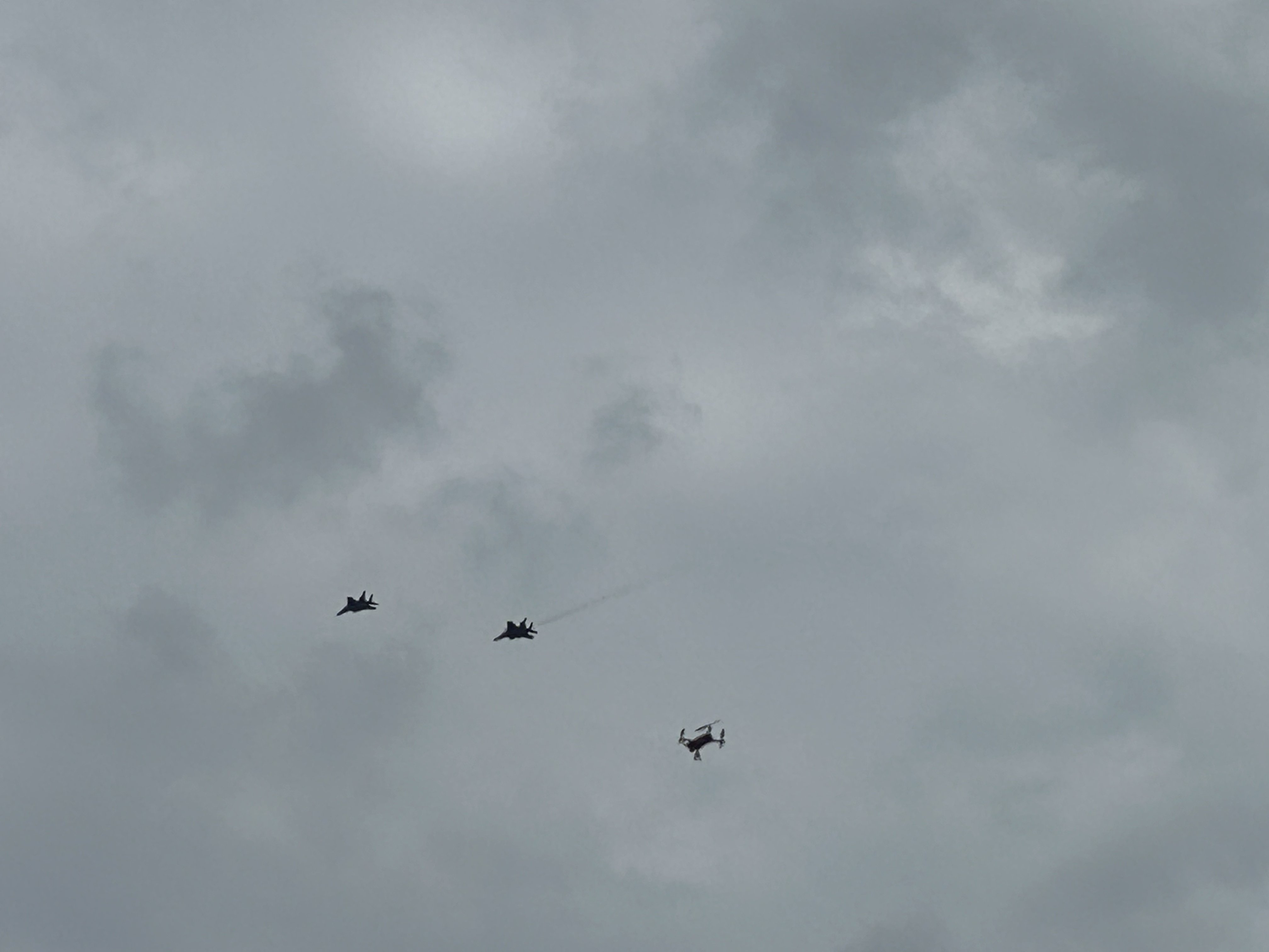drone_other: (676, 716, 729, 764)
